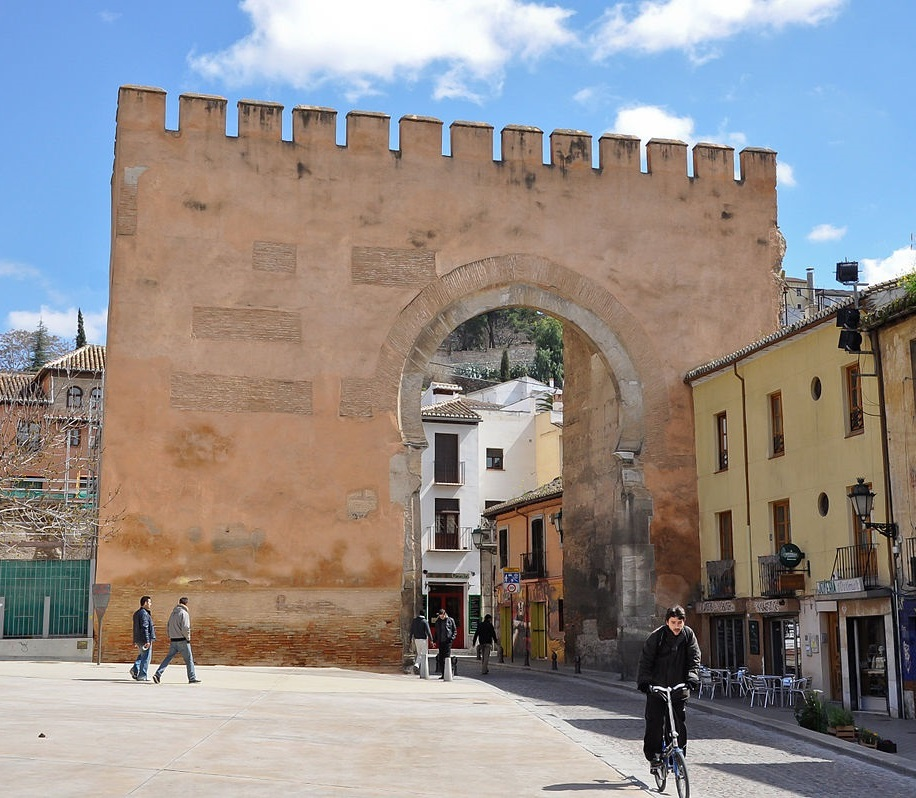arco-herradura: (407, 282, 639, 477)
